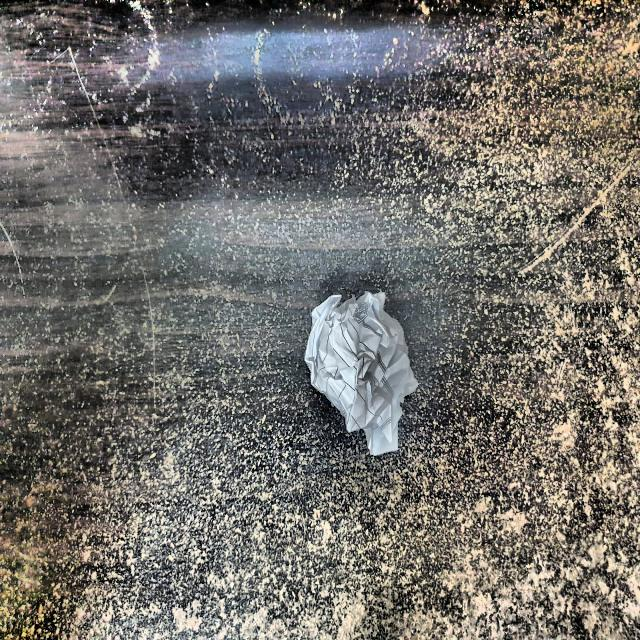Paper: (306, 294, 418, 455)
